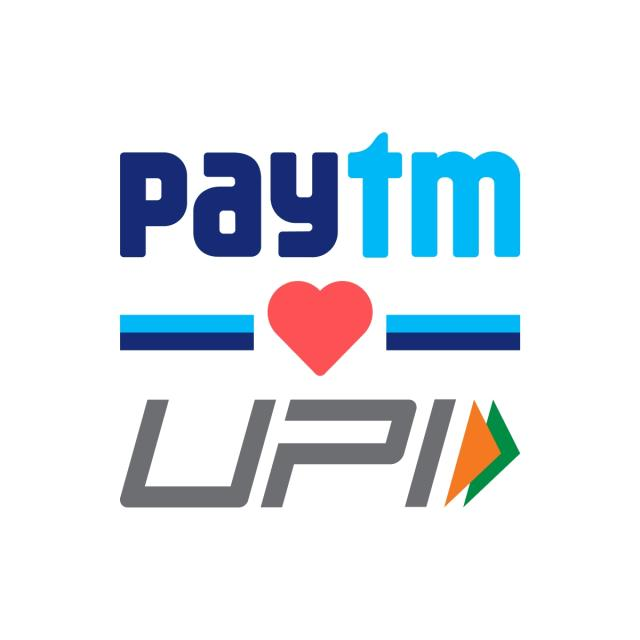fully_visible: (100, 125, 530, 274)
